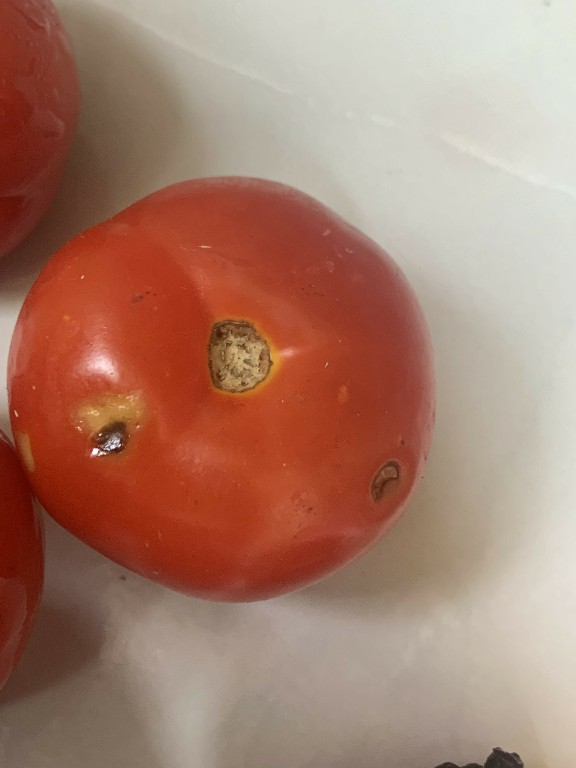NG: (0, 161, 452, 637)
